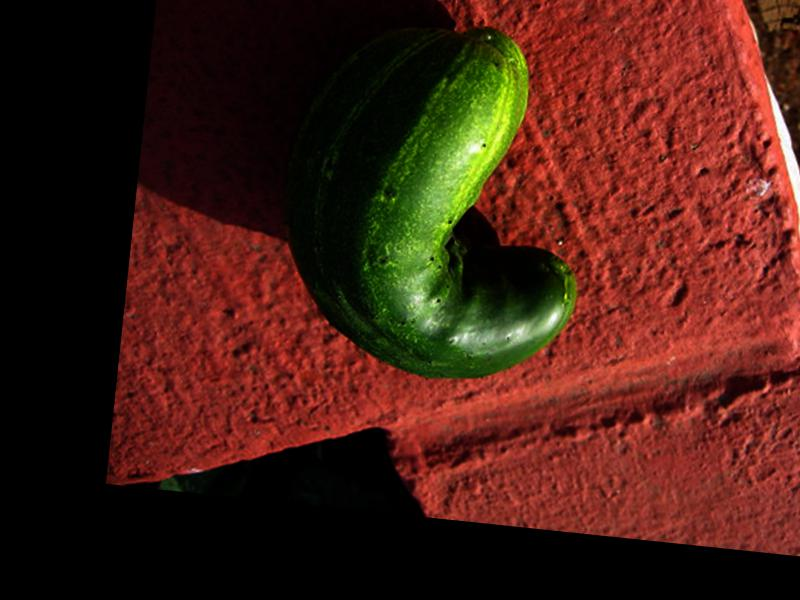Cucumber: (268, 10, 606, 391)
